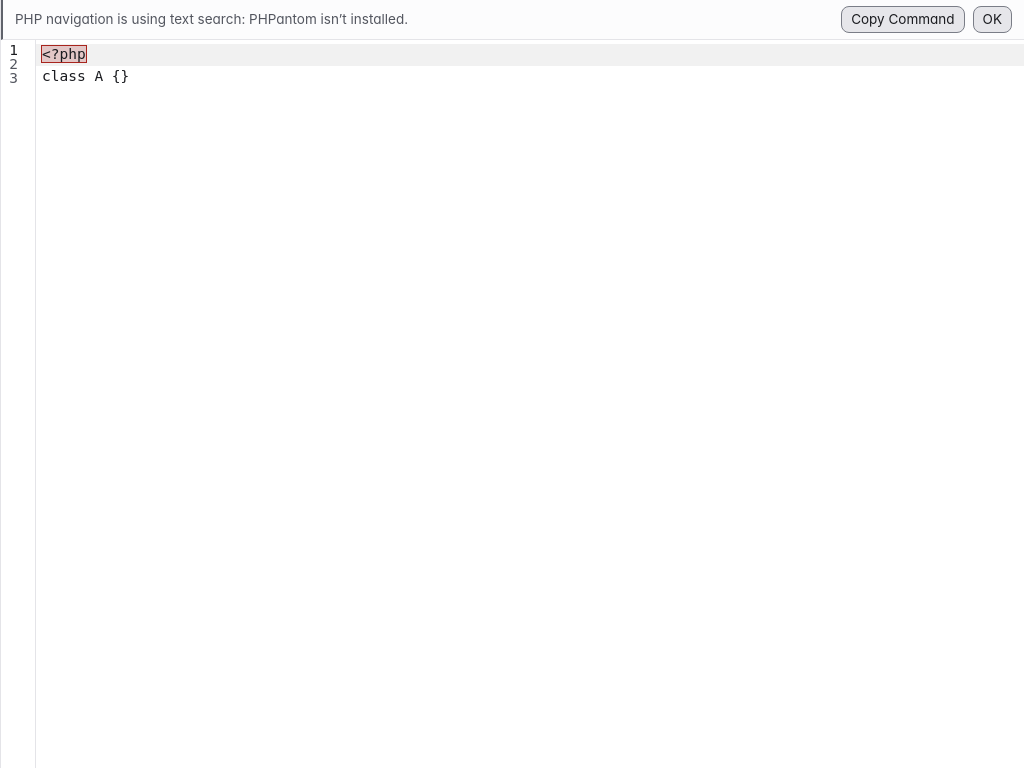
Test: FileEditor: what it says about PHPantom › OK is remembered on this machine: not on the next PHP file, nor the next launch
The image size is (1024, 768).
Click the button "OK": (992, 19) [973, 6, 1012, 33]
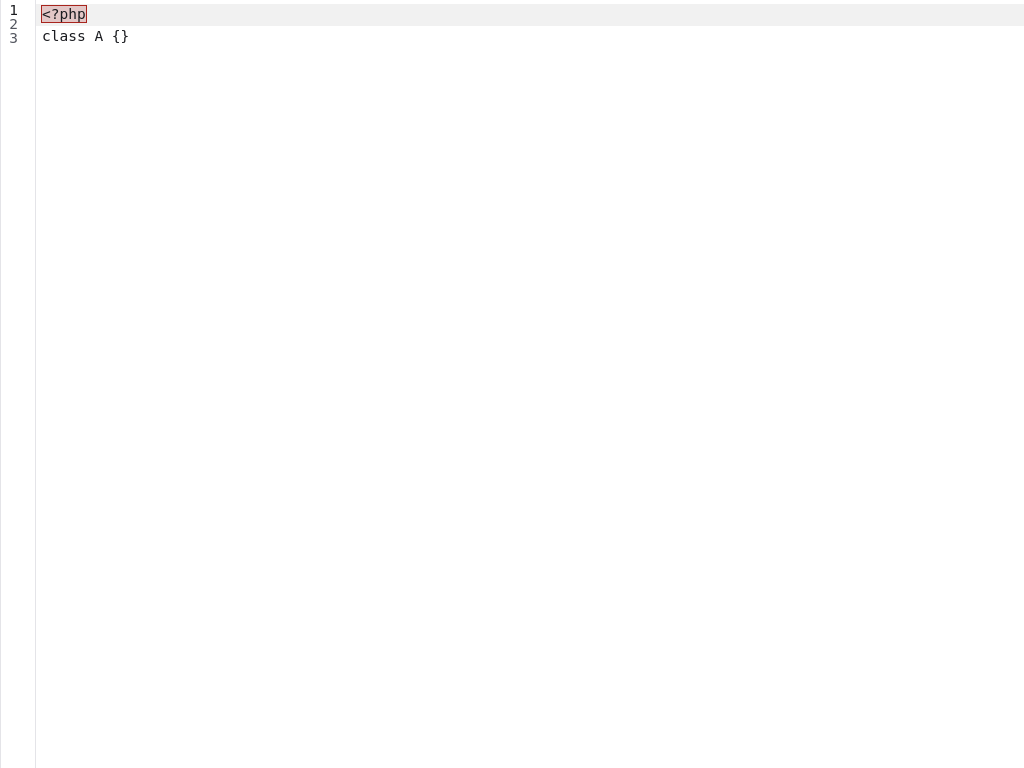
Result: the text "using text search: PHPantom isn’t installed" is gone
